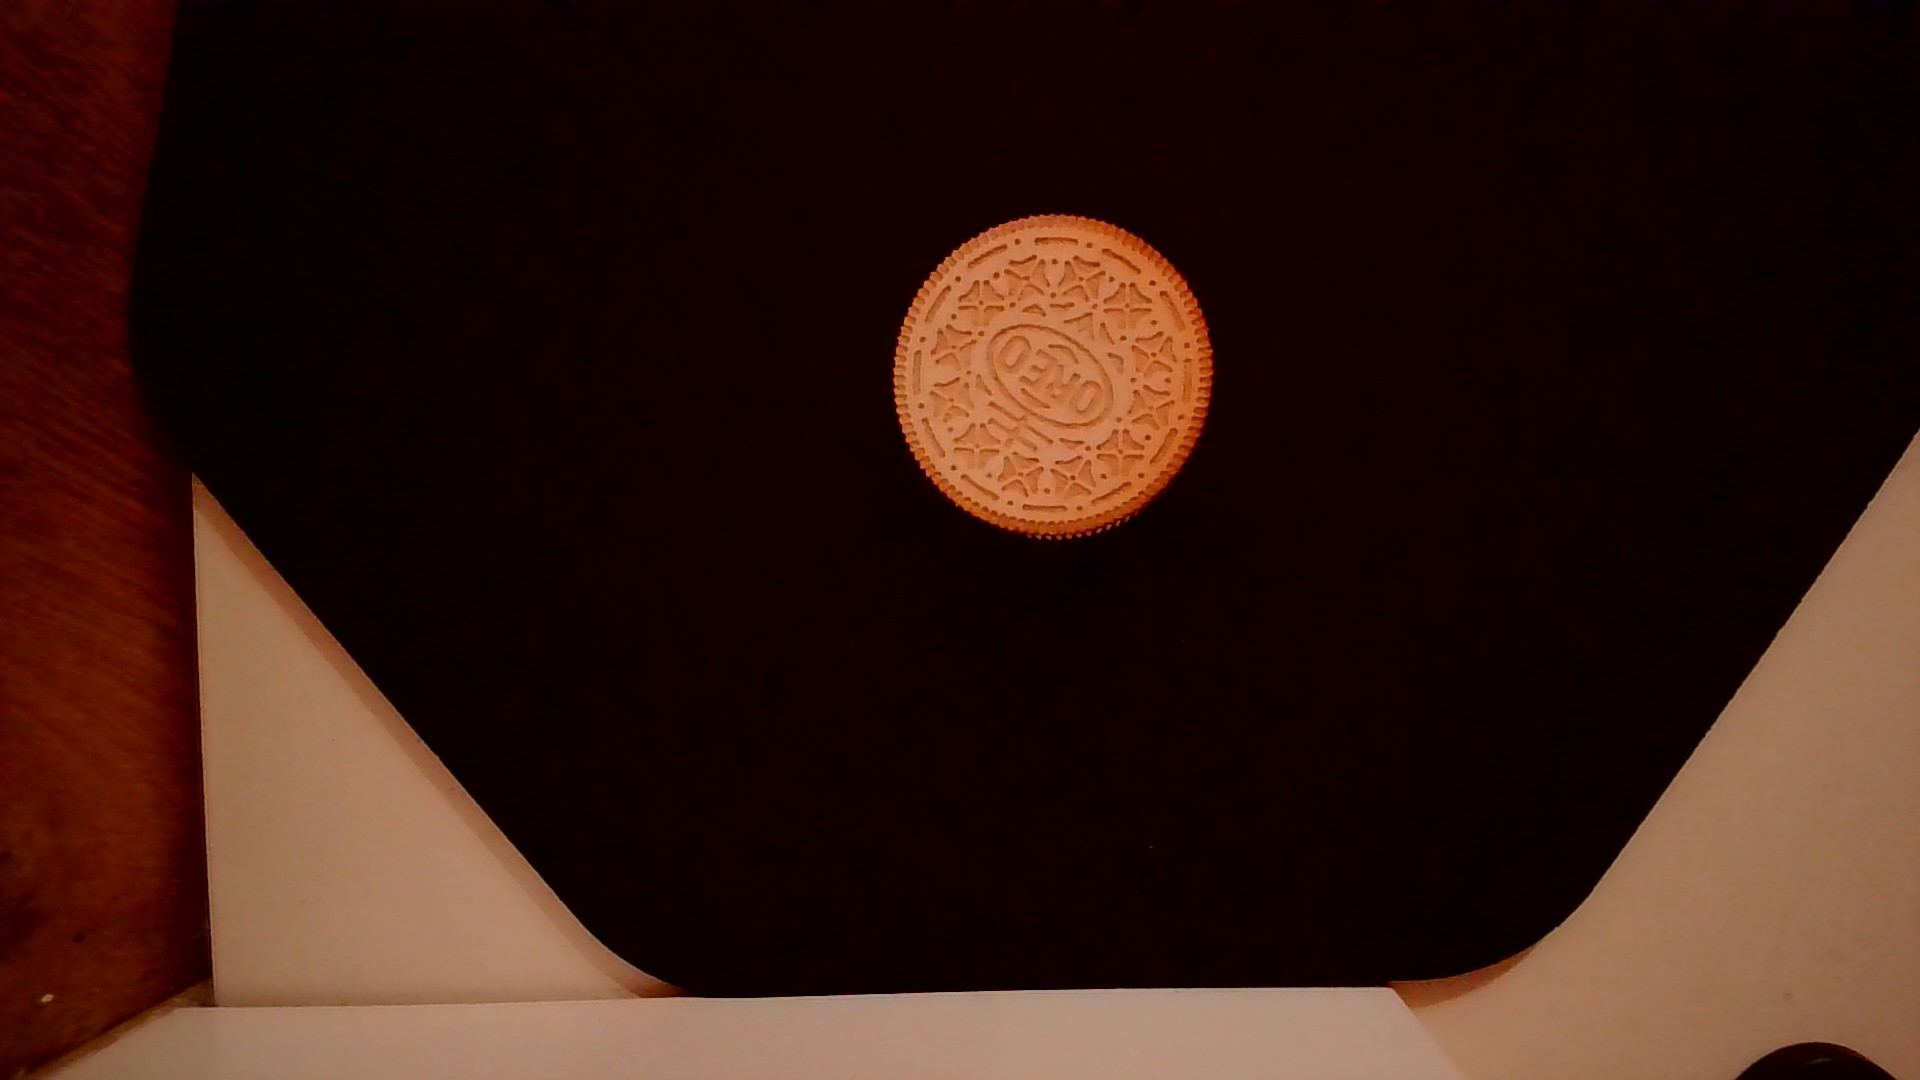Oréo: (885, 208, 1225, 549)
